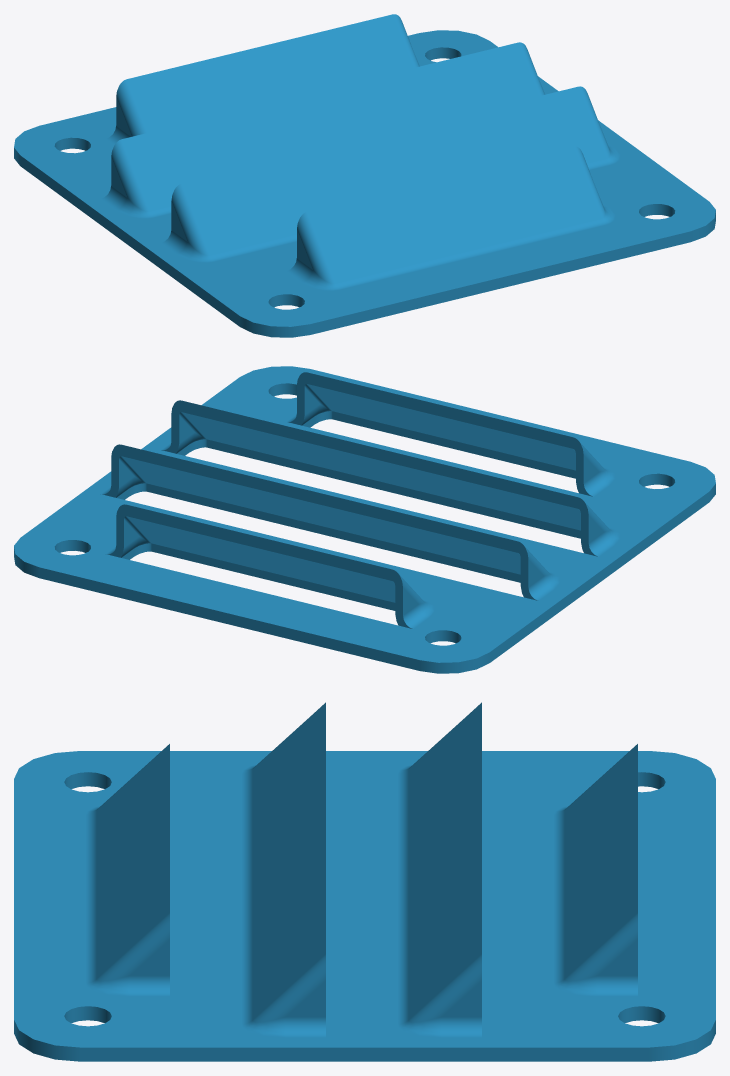
The picture shows the model from 3 angles, top to bottom: view 1: azimuth 30°, elevation 25°; view 2: azimuth 150°, elevation 25°; view 3: azimuth 270°, elevation 25°; orthographic projection. The views are drawn at different scales.
Parts seen in each view (by area): view 1: mesh12162, mesh12168, mesh12154, mesh12132, mesh12143, mesh12054, mesh12055, mesh12136, mesh12161, mesh12139, mesh12166, mesh12145 (+4 smaller); view 2: mesh12162, mesh12090, mesh12106, mesh12170, mesh12151, mesh12074, mesh12122, mesh12056, mesh12129, mesh12140, mesh12085, mesh12101 (+4 smaller); view 3: mesh12162, mesh12154, mesh12168, mesh12132, mesh12143, mesh12057, mesh12158, mesh12167, mesh12136, mesh12148, mesh12155, mesh12172 (+19 smaller).
Boxes of the visible parts, x1,y1,x2,y2 form: mesh12162: (14, 30, 715, 326); mesh12168: (182, 86, 606, 255); mesh12154: (122, 42, 538, 211); mesh12132: (307, 146, 601, 283); mesh12143: (126, 14, 413, 132); mesh12054: (310, 231, 690, 334); mesh12055: (20, 155, 239, 326); mesh12136: (336, 219, 605, 289); mesh12161: (111, 139, 149, 211); mesh12139: (297, 212, 335, 283); mesh12166: (171, 183, 209, 255); mesh12145: (116, 79, 147, 136); mesh12162: (14, 366, 715, 662); mesh12090: (122, 456, 520, 574); mesh12106: (182, 412, 580, 530); mesh12170: (161, 400, 597, 556); mesh12151: (102, 444, 537, 600); mesh12074: (127, 516, 395, 602); mesh12122: (307, 384, 575, 470); mesh12056: (39, 567, 419, 670); mesh12129: (288, 372, 592, 496); mesh12140: (107, 504, 412, 628); mesh12085: (147, 483, 520, 582); mesh12101: (207, 439, 580, 538); mesh12162: (14, 751, 715, 1047); mesh12154: (408, 703, 481, 1019); mesh12168: (252, 703, 325, 1019); mesh12132: (96, 745, 169, 978); mesh12143: (564, 745, 637, 978); mesh12057: (80, 1047, 649, 1061); mesh12158: (397, 770, 408, 1024); mesh12167: (241, 770, 252, 1024); mesh12136: (85, 811, 96, 983); mesh12148: (553, 811, 564, 983); mesh12155: (408, 954, 481, 1022); mesh12172: (252, 954, 325, 1022).
Size of the model in its own units: 0.0634 by 0.00845 by 0.0634.
